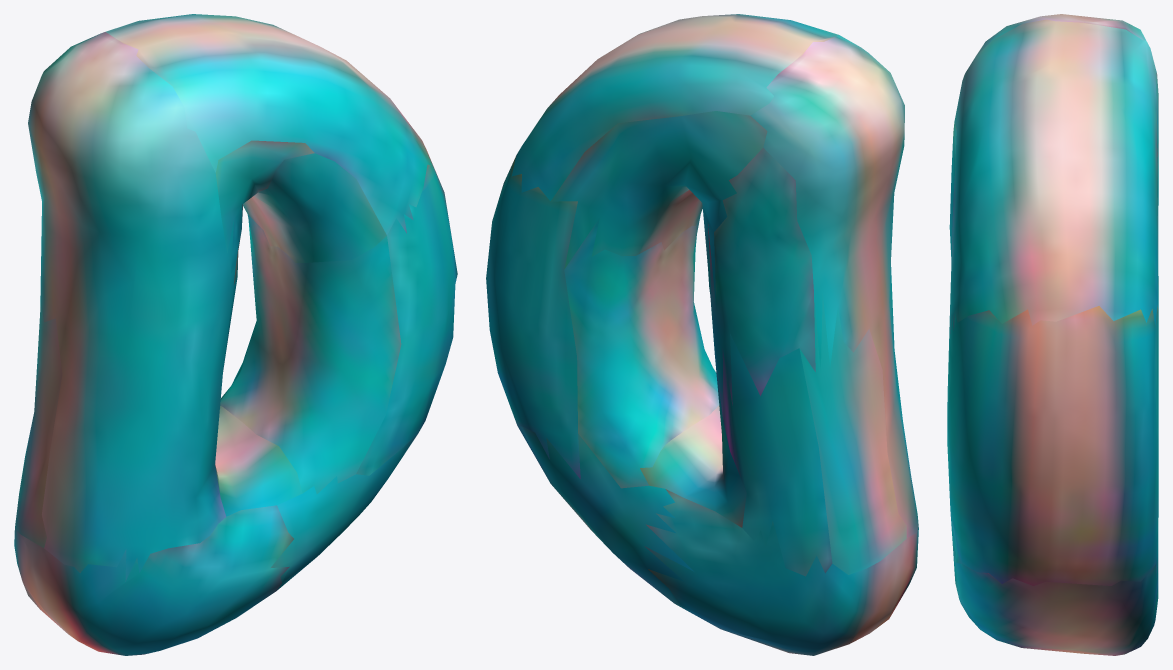
The picture shows the model from 3 angles, left to right: view 1: azimuth 30°, elevation 25°; view 2: azimuth 150°, elevation 25°; view 3: azimuth 270°, elevation 25°; orthographic projection. The views are drawn at different scales.
Parts seen in each view (by area): view 1: Candy-Letter-D; view 2: Candy-Letter-D; view 3: Candy-Letter-D.
Part boxes in pixels (x1=…): Candy-Letter-D: x1=14, y1=14, x2=457, y2=655; Candy-Letter-D: x1=486, y1=14, x2=918, y2=655; Candy-Letter-D: x1=947, y1=14, x2=1158, y2=655.
Size of the model in its own units: 0.2345 by 0.334 by 0.1044.
Materials: 1 (1 with a texture image).
